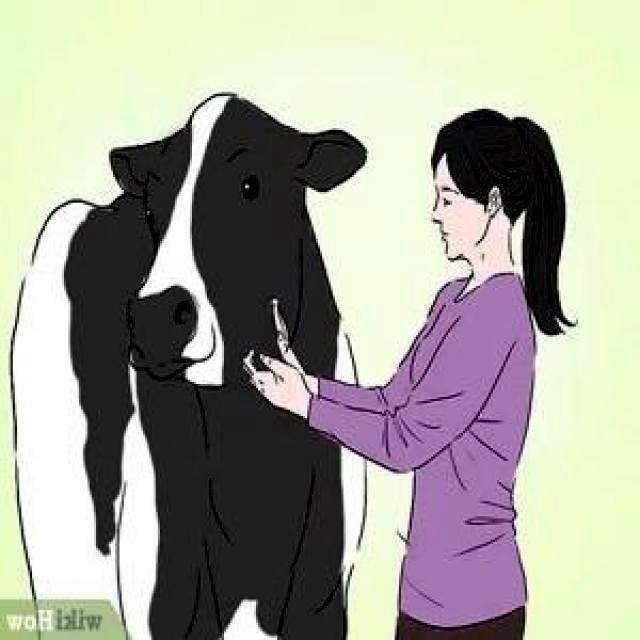COW: (11, 95, 366, 640)
